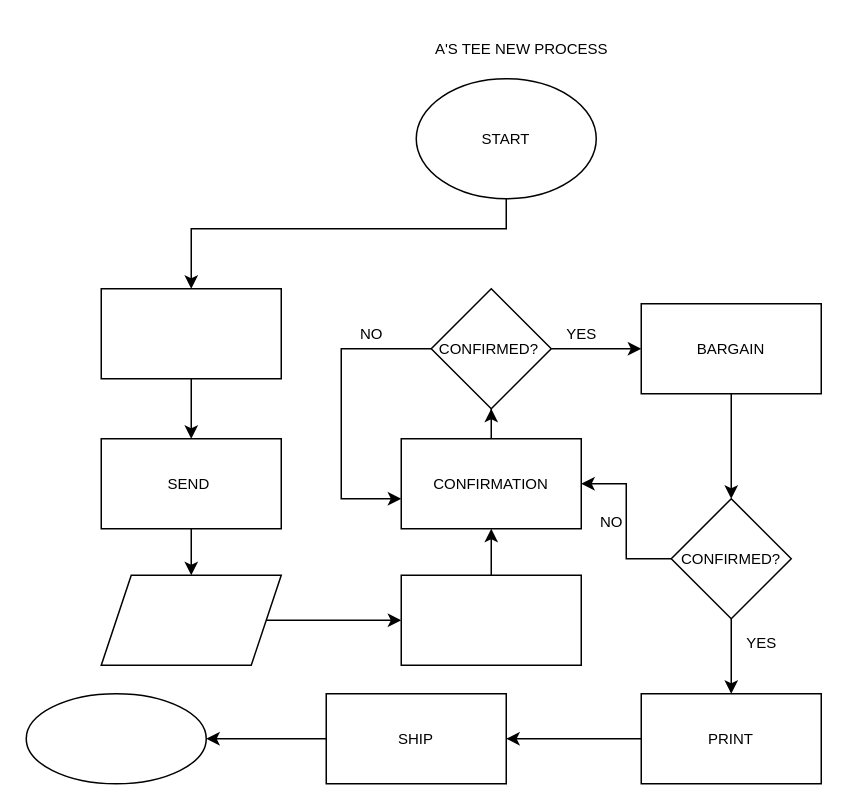
Some shapes in this 848 by 810 pixel diagram are drawn without their labels. The shapes that lost their labels are listed below. From the top down, each one's centre as x and y in pixels, then its label:
At point 190,333: "CUSTOMER MOCKUP".
At point 190,619: "SIZE, QUANTITY".
At point 490,619: "AMOUNT".
At point 115,738: "END".
